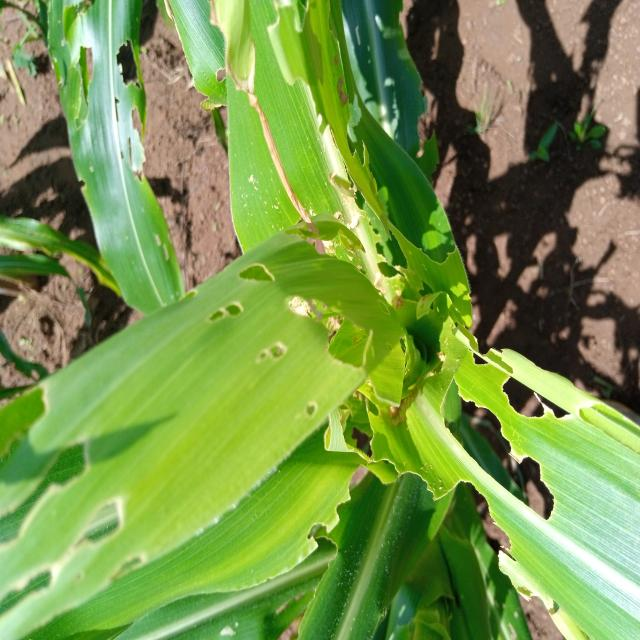fall-armyworm-egg: (330, 65, 362, 114), (376, 287, 408, 322)
fall-armyworm-frass: (230, 152, 298, 240), (400, 453, 456, 505), (422, 326, 468, 375)
fall-armyworm-larval-damage: (0, 356, 140, 640), (415, 289, 591, 426), (430, 370, 556, 531), (365, 431, 520, 526), (341, 175, 417, 280), (497, 535, 578, 625), (294, 445, 356, 554), (284, 271, 356, 356), (260, 0, 314, 108), (313, 391, 390, 461), (64, 31, 98, 128), (405, 230, 468, 280), (114, 106, 149, 187), (105, 22, 146, 88), (185, 65, 231, 120), (230, 245, 278, 295), (338, 112, 376, 168), (207, 291, 250, 337), (251, 332, 293, 372), (306, 107, 336, 144), (302, 386, 328, 422), (205, 63, 240, 83), (70, 168, 89, 194)
